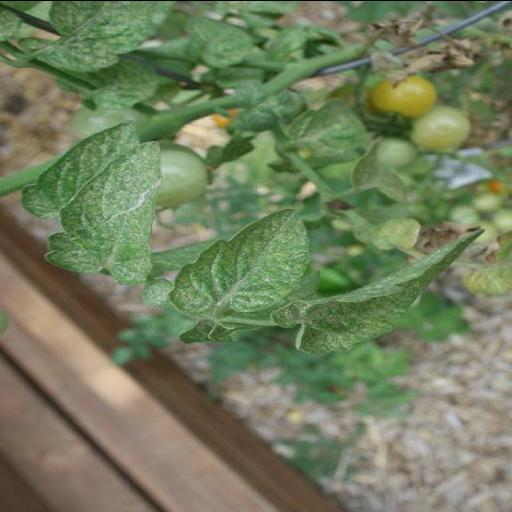Spider Mites: (290, 226, 486, 358), (40, 140, 166, 284), (165, 206, 311, 314)
